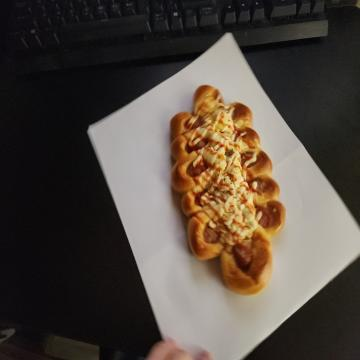pizza_bread: (168, 85, 285, 298)
